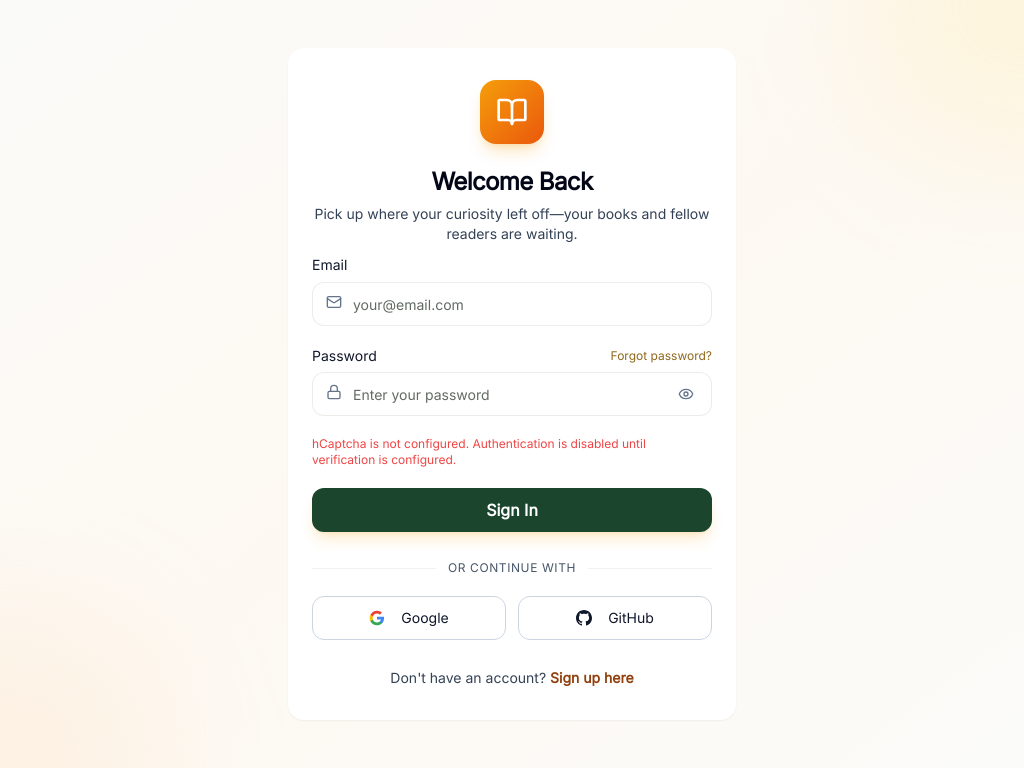
Test: SignIn › renders the form and validates required fields before authentication
Click the button "Sign In" at (512, 510), box [312, 488, 712, 532]
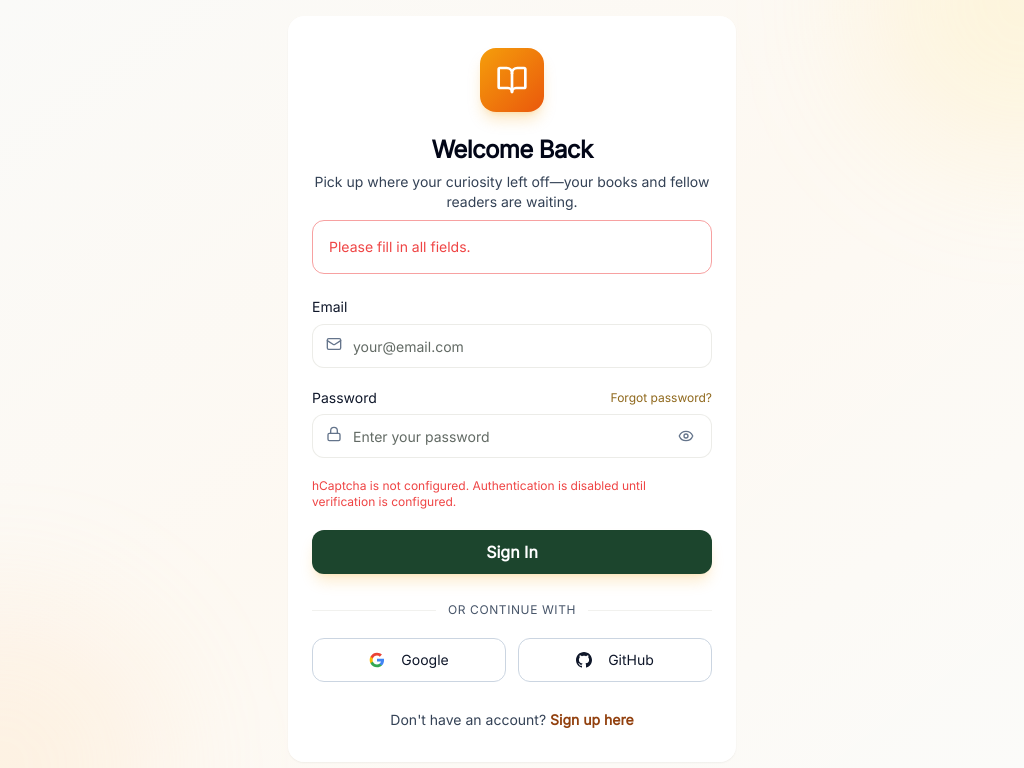
Check: the text "Please fill in all fields." is shown, box [329, 238, 471, 255]
